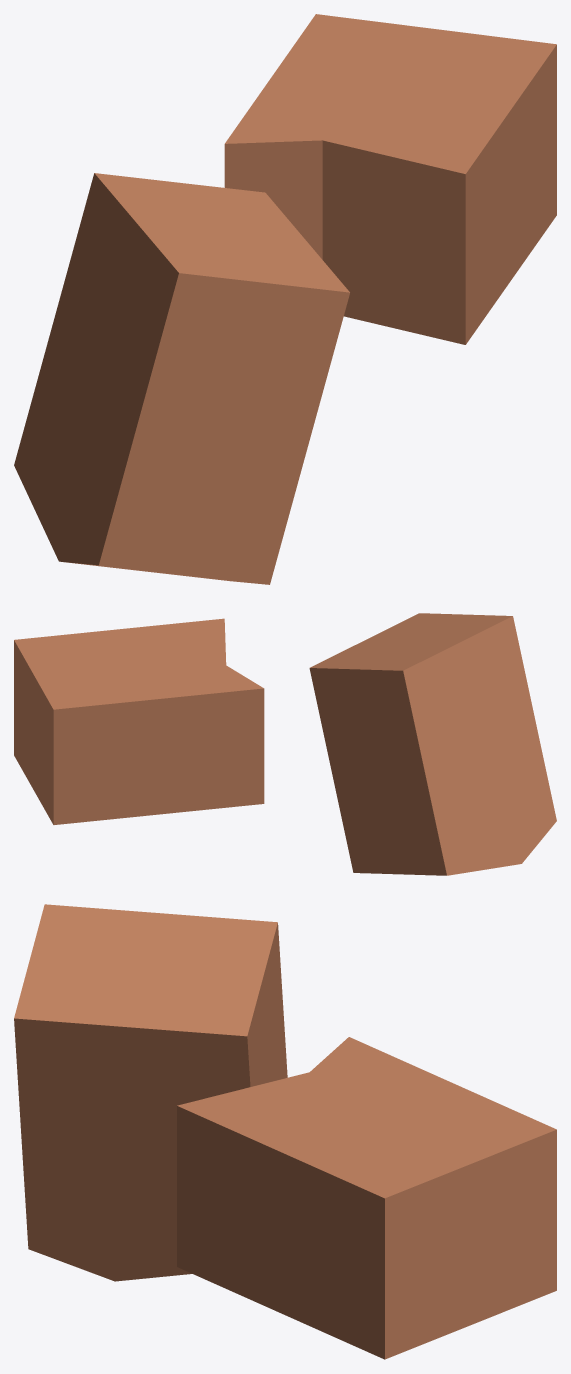
The model's file is Brick_crk_02.fbx.
3 renders of one model, top to bottom at view 1: azimuth 30°, elevation 25°; view 2: azimuth 150°, elevation 25°; view 3: azimuth 270°, elevation 25°, orthographic. The views are drawn at different scales.
Parts seen in each view (by area): view 1: Brick_crk_02; view 2: Brick_crk_02; view 3: Brick_crk_02.
Boxes of the visible parts, x1,y1,x2,y2 form: Brick_crk_02: [14, 14, 556, 584]; Brick_crk_02: [14, 613, 556, 875]; Brick_crk_02: [14, 904, 556, 1359].
Size of the model in its own units: 28.97 by 15.66 by 22.9.
